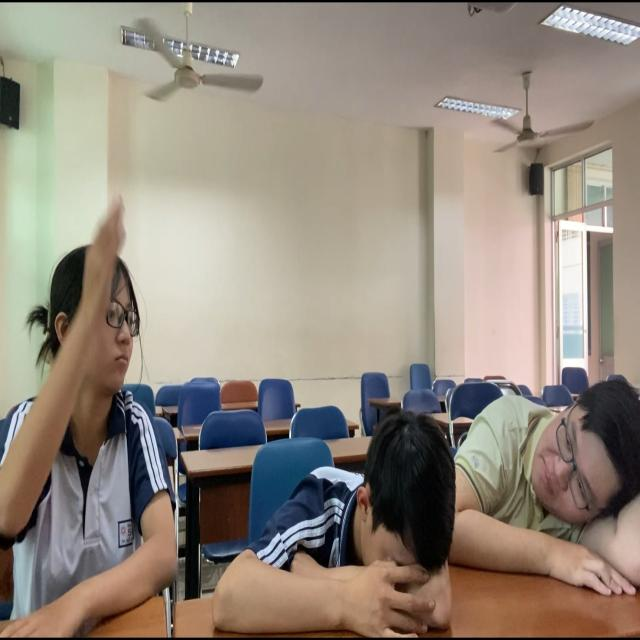raise_hand: (1, 194, 184, 640)
sleep: (203, 395, 459, 640), (453, 374, 640, 599)
